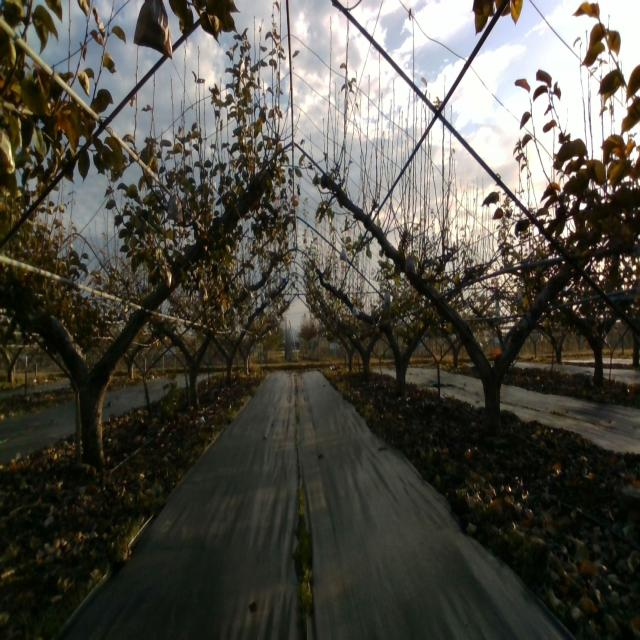pearbags: (133, 0, 173, 60), (166, 190, 183, 224), (405, 251, 417, 275)
